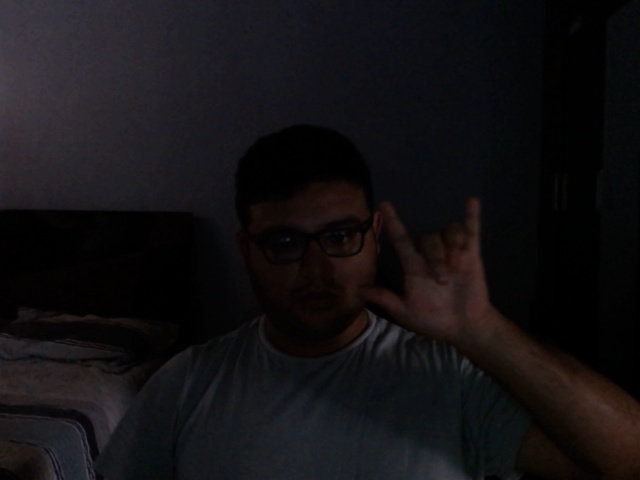I love you: (354, 191, 496, 349)
